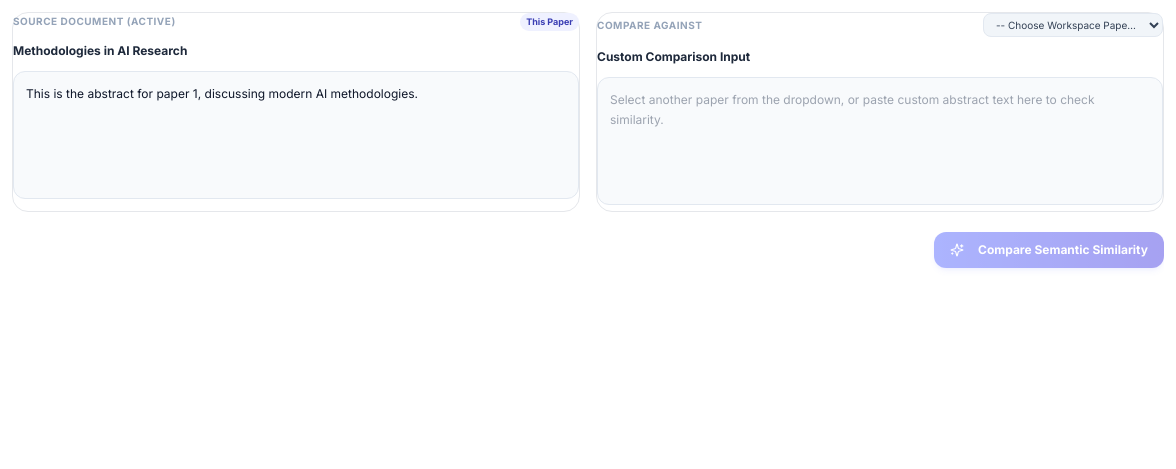
it: AI Insights Panels UI Components › SimilarityPanel › shows offline warning banner if service returns 0 and healthcheck fails
Select "A Deep Dive into Neural Networks" in the dropdown: [1073, 25] box [983, 13, 1163, 37]
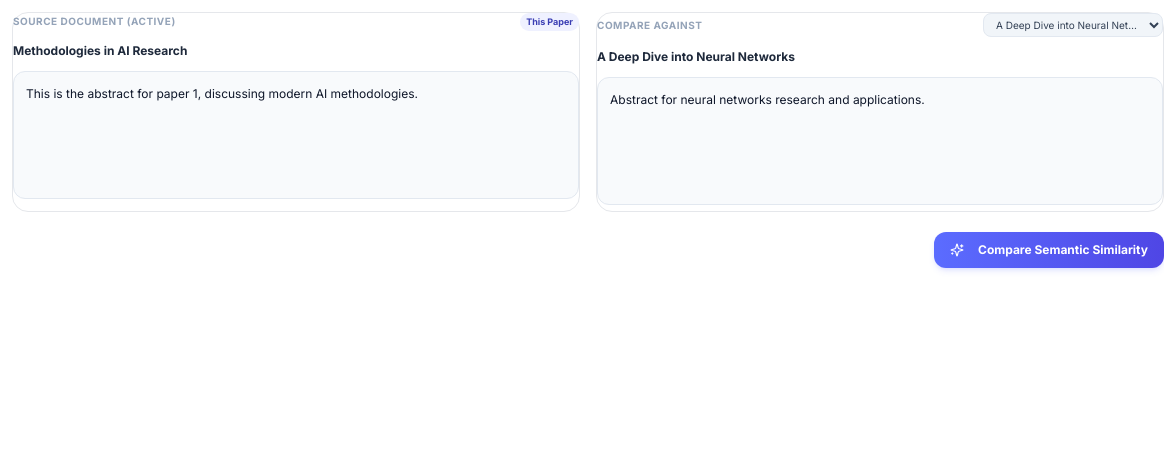
Click the button "Compare Semantic Similarity": [1049, 250] box [934, 232, 1164, 268]
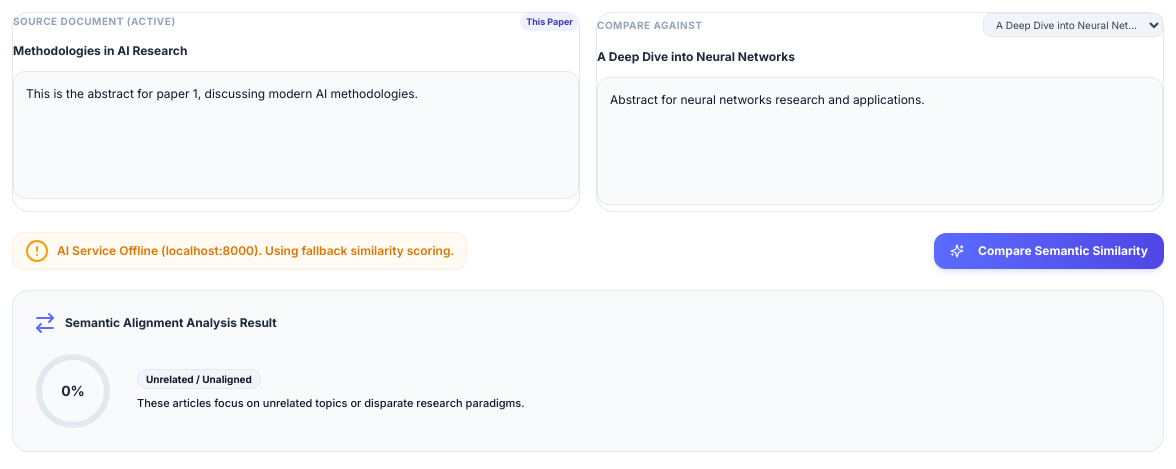
Now the text "AI Service Offline" is shown, box [57, 243, 454, 258]
